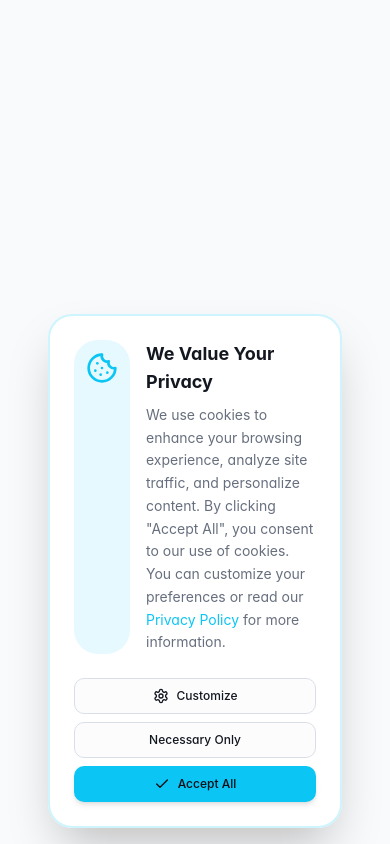
it: CookieConsent › shows settings panel when Customize is clicked
Click the button "Customize" at [195, 696], box [74,678,316,714]
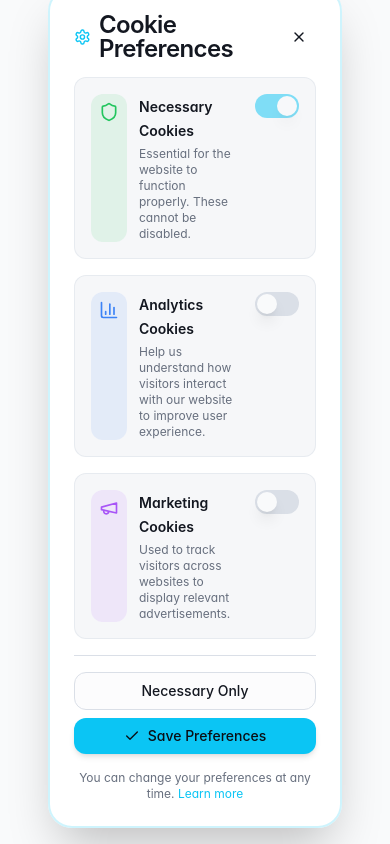
Check: the heading "Cookie Preferences" is shown, box [74,10,233,63]
Check: the text "Necessary Cookies" is shown, box [139,98,212,139]
Check: the text "Analytics Cookies" is shown, box [139,296,203,337]
